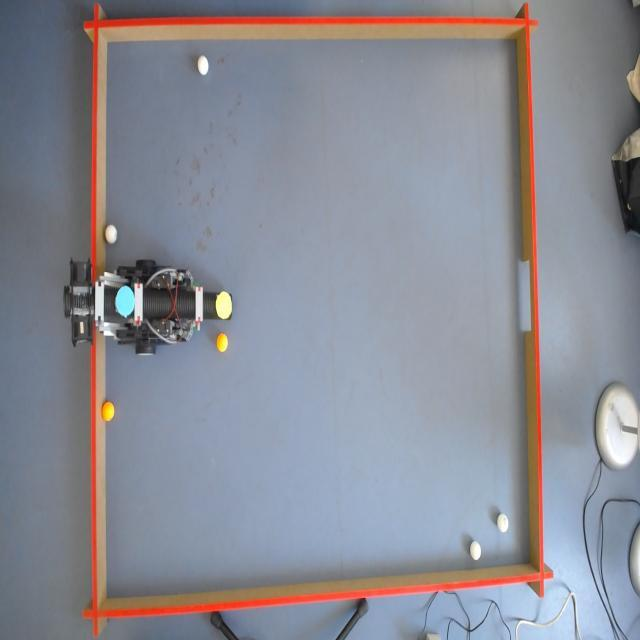orange: (218, 332, 232, 352), (102, 401, 115, 422)
robot: (63, 258, 232, 350)
robot-front: (215, 291, 232, 319)
robot-rear: (116, 285, 134, 316)
white: (195, 56, 209, 76), (470, 540, 483, 561), (104, 225, 117, 244), (498, 512, 510, 532)
